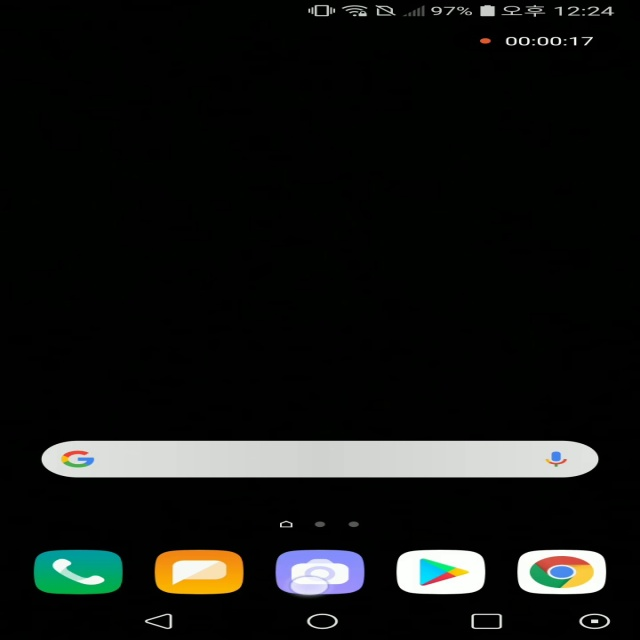Cursor: (289, 575, 334, 597)
